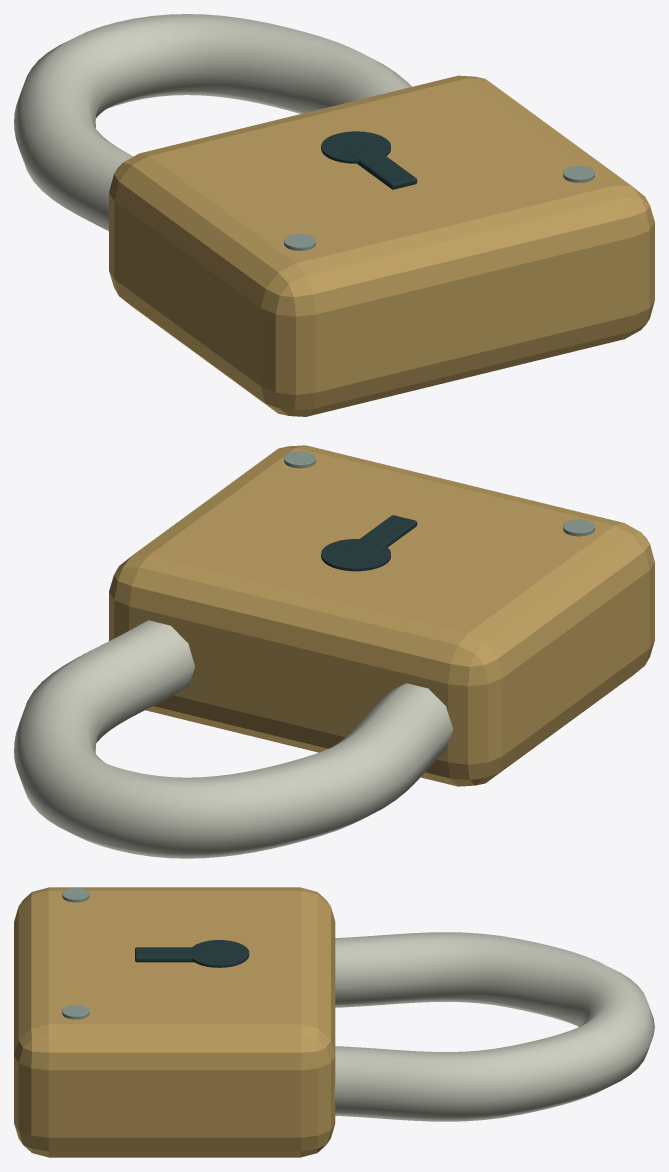
Rendered from padlock.glb.
The picture shows the model from 3 angles, top to bottom: view 1: azimuth 30°, elevation 25°; view 2: azimuth 150°, elevation 25°; view 3: azimuth 270°, elevation 25°; orthographic projection. The views are drawn at different scales.
Visible parts, largest first — view 1: padlock; view 2: padlock; view 3: padlock.
Boxes of the visible parts, left/top/right/bottom form: padlock: left=14, top=14, right=654, bottom=416; padlock: left=14, top=445, right=654, bottom=858; padlock: left=14, top=887, right=654, bottom=1157.
Size of the model in its own units: 0.0421 by 0.0163 by 0.07.
